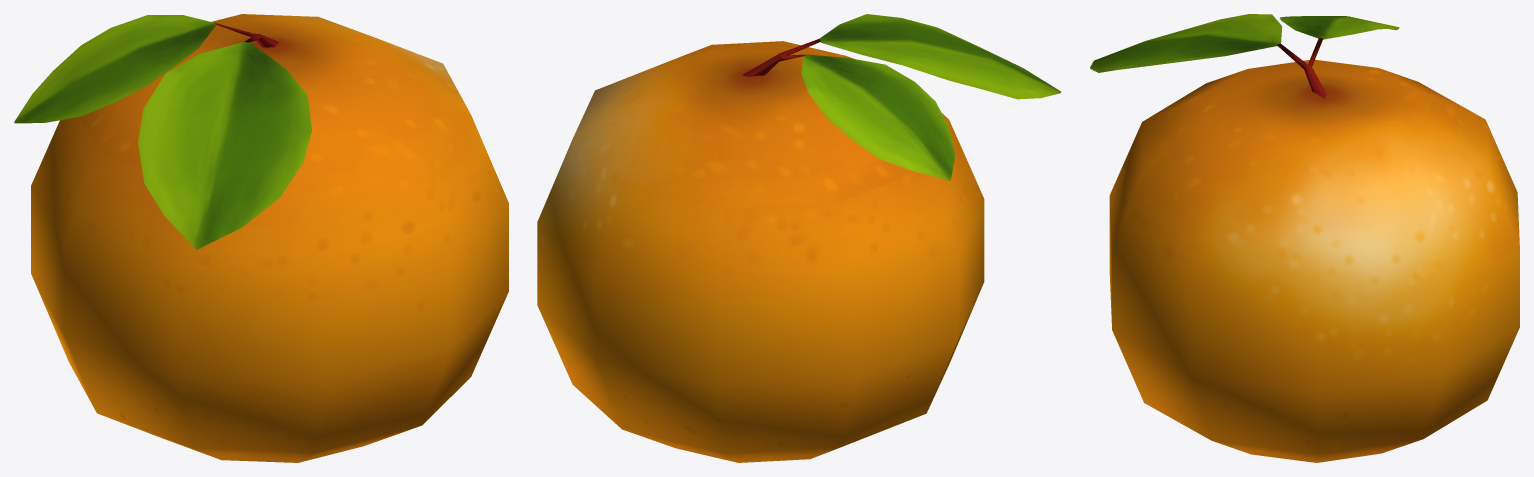
File: orange.fbx
3 renders of one model, left to right at view 1: azimuth 30°, elevation 25°; view 2: azimuth 150°, elevation 25°; view 3: azimuth 270°, elevation 25°, orthographic. The views are drawn at different scales.
Visible parts, largest first — view 1: orange; view 2: orange; view 3: orange.
Part boxes in pixels (<box>): orange: <box>14,14,508,462</box>; orange: <box>537,14,1061,462</box>; orange: <box>1090,14,1519,462</box>.
Bounding box in the file's own units: 1.83 × 1.64 × 1.75.
